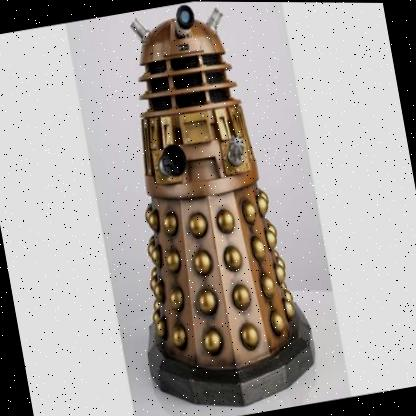dalek: (65, 0, 350, 416)
